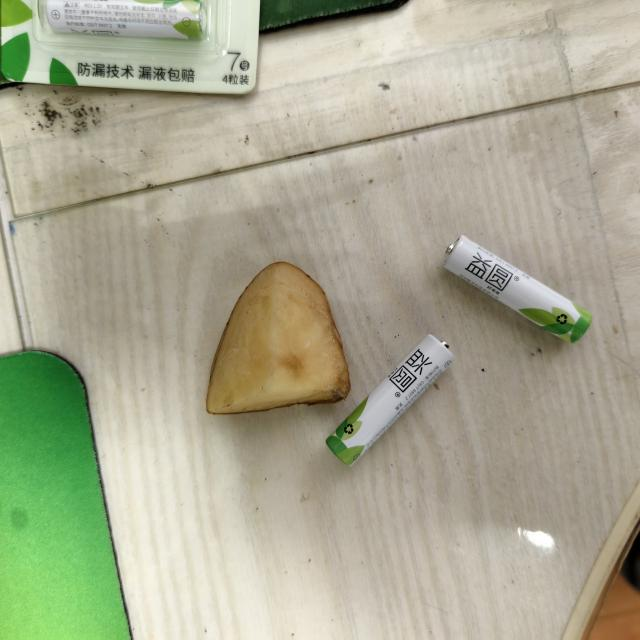-Hazardous waste - battery-: (326, 333, 454, 471), (442, 234, 592, 347), (45, 0, 208, 40)
-Kitchen waste - potato-: (205, 259, 351, 418)
